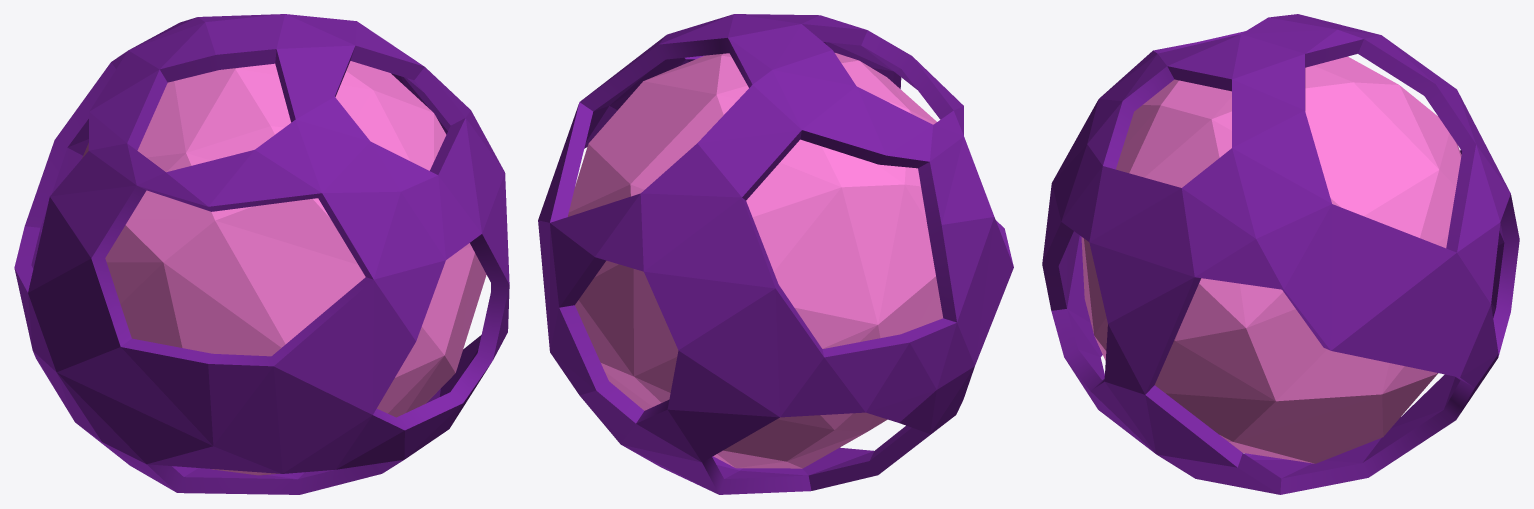
File: Planet_05_b.fbx
The picture shows the model from 3 angles, left to right: view 1: azimuth 30°, elevation 25°; view 2: azimuth 150°, elevation 25°; view 3: azimuth 270°, elevation 25°; orthographic projection. The views are drawn at different scales.
Parts seen in each view (by area): view 1: Planet_017; view 2: Planet_017; view 3: Planet_017.
Part boxes in pixels (x1,y1,x2,y2): Planet_017: [14, 14, 509, 494]; Planet_017: [538, 14, 1013, 494]; Planet_017: [1042, 14, 1519, 494].
Bounding box in the file's own units: 68.9 × 69.29 × 69.71.
